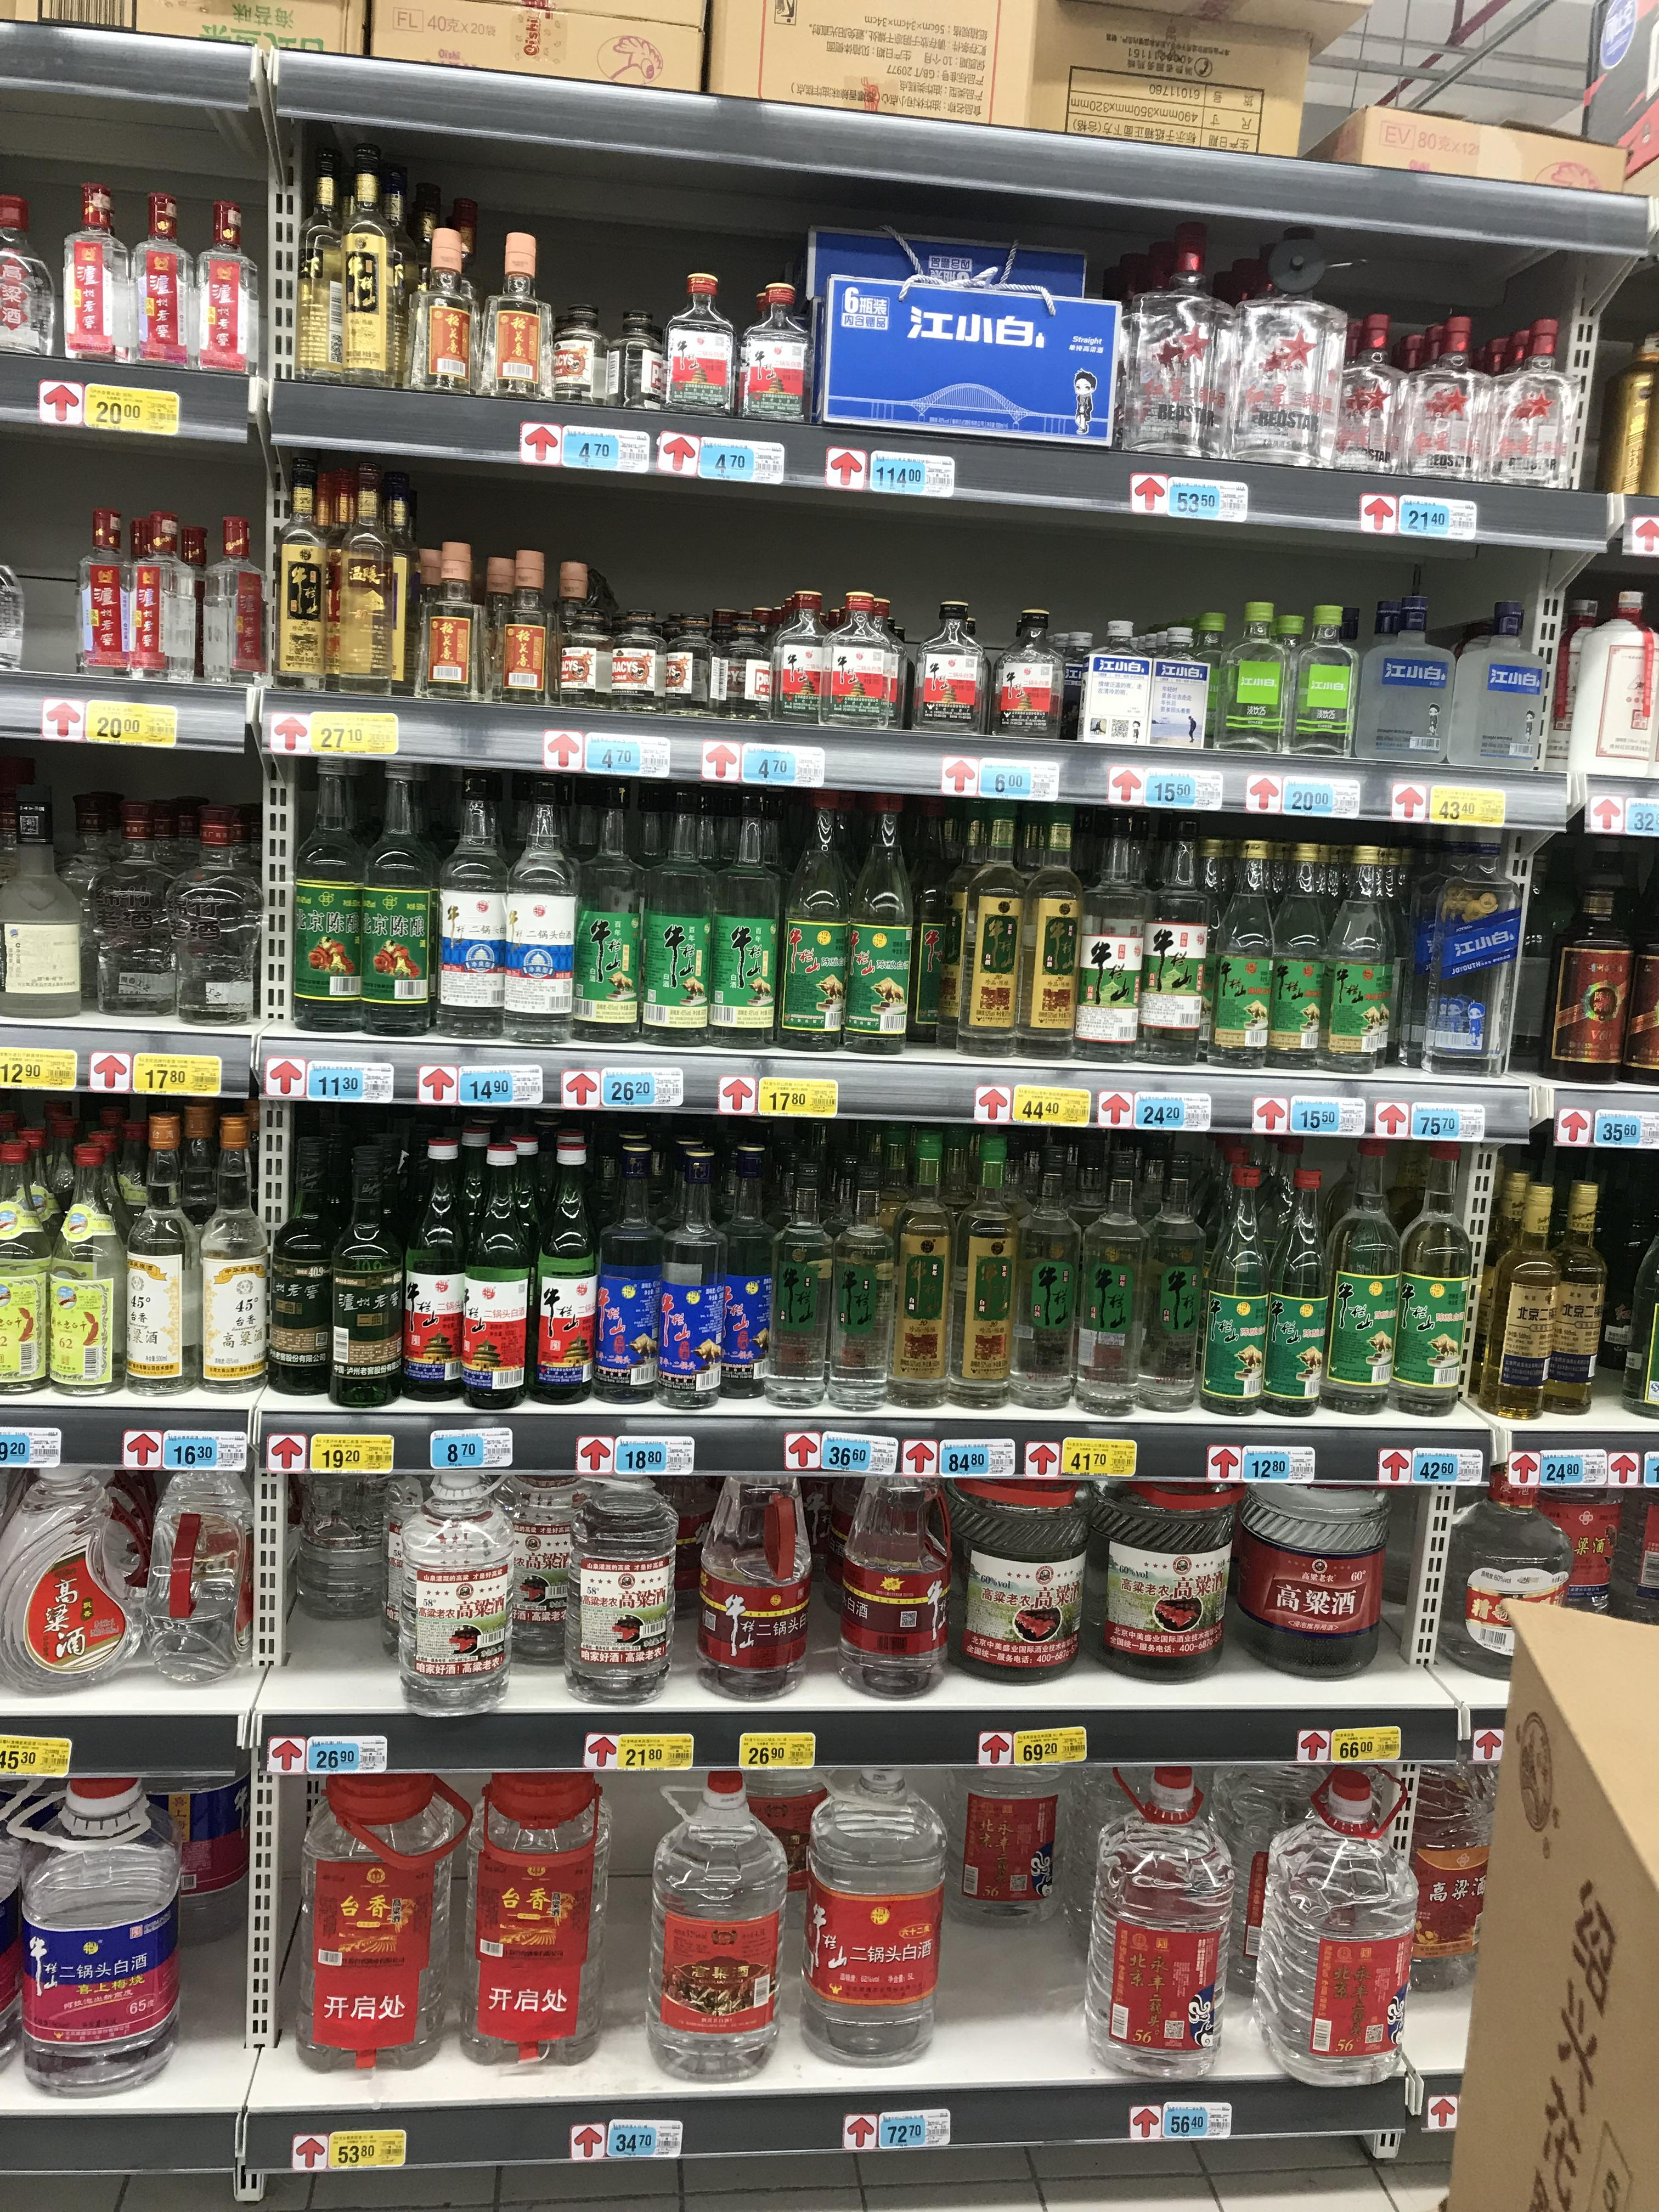bag: (296, 1773, 465, 2071), (1084, 1761, 1232, 2076), (465, 1770, 606, 2073), (2, 1470, 148, 1696), (1412, 822, 1523, 1083), (141, 1470, 256, 1689), (1530, 1489, 1636, 1660)
bottle: (5, 1773, 185, 2102), (711, 0, 1040, 138), (1032, 2, 1309, 157), (648, 1771, 782, 2080), (803, 1768, 943, 2064), (1107, 225, 1234, 460), (1305, 108, 1633, 197), (1384, 1132, 1480, 1414), (1310, 1139, 1401, 1420), (697, 1474, 812, 1693), (261, 1116, 350, 1399), (1410, 1763, 1514, 1996), (1432, 1489, 1556, 1684), (770, 782, 857, 1054), (697, 780, 782, 1052), (1443, 1148, 1528, 1418), (192, 1113, 274, 1393), (356, 759, 436, 1045), (835, 786, 918, 1054), (321, 1141, 404, 1409), (291, 758, 371, 1036), (1066, 806, 1152, 1068), (634, 775, 714, 1052), (563, 770, 641, 1050), (500, 763, 577, 1047), (458, 1141, 538, 1411), (396, 1137, 476, 1404), (945, 1136, 1021, 1413), (1134, 815, 1216, 1069), (946, 799, 1026, 1059), (1007, 1136, 1082, 1413), (526, 1137, 603, 1406), (1316, 845, 1403, 1080), (650, 1144, 727, 1411), (1199, 1165, 1279, 1420), (591, 1141, 667, 1404), (432, 766, 504, 1045), (1012, 803, 1089, 1062), (115, 1122, 188, 1393), (336, 462, 418, 704), (880, 1134, 951, 1411), (267, 152, 352, 383), (1256, 1165, 1333, 1420), (762, 1141, 835, 1406), (49, 1136, 122, 1399), (2, 787, 84, 1021), (824, 1137, 894, 1409), (173, 808, 260, 1024), (1481, 320, 1591, 491), (94, 799, 179, 1019), (702, 1141, 774, 1400), (906, 796, 979, 1047), (1068, 1163, 1140, 1418), (1527, 1181, 1603, 1418), (1258, 843, 1333, 1078), (1201, 841, 1276, 1075), (1567, 592, 1659, 777), (40, 792, 115, 1015), (342, 145, 410, 387), (1134, 1191, 1208, 1414), (268, 456, 335, 695), (1596, 1181, 1659, 1418), (0, 1132, 54, 1399), (410, 536, 490, 705), (1403, 315, 1481, 477), (64, 181, 131, 368), (192, 199, 260, 376), (408, 228, 479, 397), (1202, 604, 1281, 758), (197, 516, 265, 691), (1277, 610, 1356, 761), (75, 510, 143, 683), (127, 192, 192, 373), (655, 272, 734, 413), (824, 594, 901, 735), (734, 284, 814, 418), (483, 232, 545, 401), (486, 547, 551, 709), (765, 590, 840, 728), (911, 599, 985, 733), (143, 512, 199, 688), (986, 611, 1063, 738), (1598, 333, 1656, 496), (1141, 624, 1213, 752), (0, 190, 54, 359), (552, 563, 612, 711), (451, 549, 502, 712), (657, 610, 716, 718), (713, 608, 769, 721), (603, 613, 664, 716), (547, 303, 606, 408), (606, 308, 664, 411), (44, 1235, 45, 1237)
bucket: (1256, 1764, 1410, 2090), (946, 1470, 1089, 1684), (401, 1472, 521, 1717), (831, 1475, 958, 1695), (558, 1475, 678, 1705), (448, 1472, 563, 1676), (941, 1766, 1070, 1933), (1342, 597, 1457, 768), (1453, 599, 1556, 775), (281, 1474, 397, 1620)
jar: (1229, 1480, 1384, 1683), (1094, 1479, 1232, 1681), (1234, 225, 1345, 469), (1544, 834, 1638, 1087), (1330, 312, 1413, 474), (1072, 618, 1152, 744)
others: (802, 223, 1110, 455)
